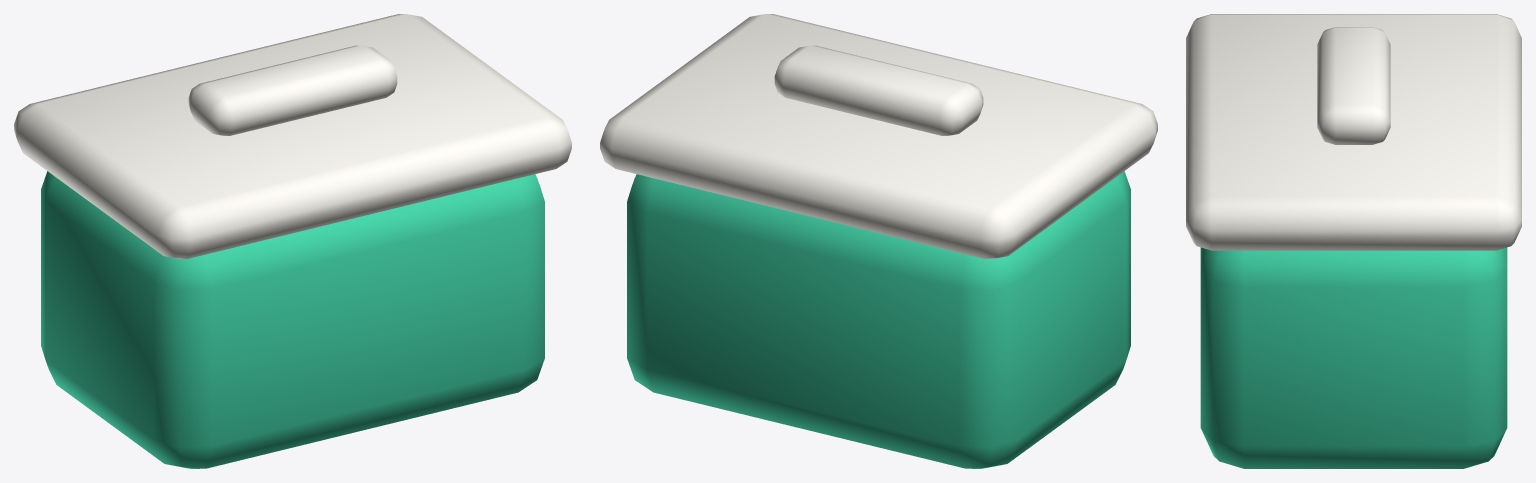
The model's file is cooler.glb.
The picture shows the model from 3 angles, left to right: view 1: azimuth 30°, elevation 25°; view 2: azimuth 150°, elevation 25°; view 3: azimuth 270°, elevation 25°; orthographic projection.
Parts seen in each view (by area): view 1: Cooler; view 2: Cooler; view 3: Cooler.
Boxes of the visible parts, box(x1,y1,x2,y2) form: Cooler: box(14, 14, 571, 468); Cooler: box(600, 14, 1157, 468); Cooler: box(1186, 14, 1521, 468).
Bounding box in the file's own units: 0.66 × 0.49 × 0.46.
